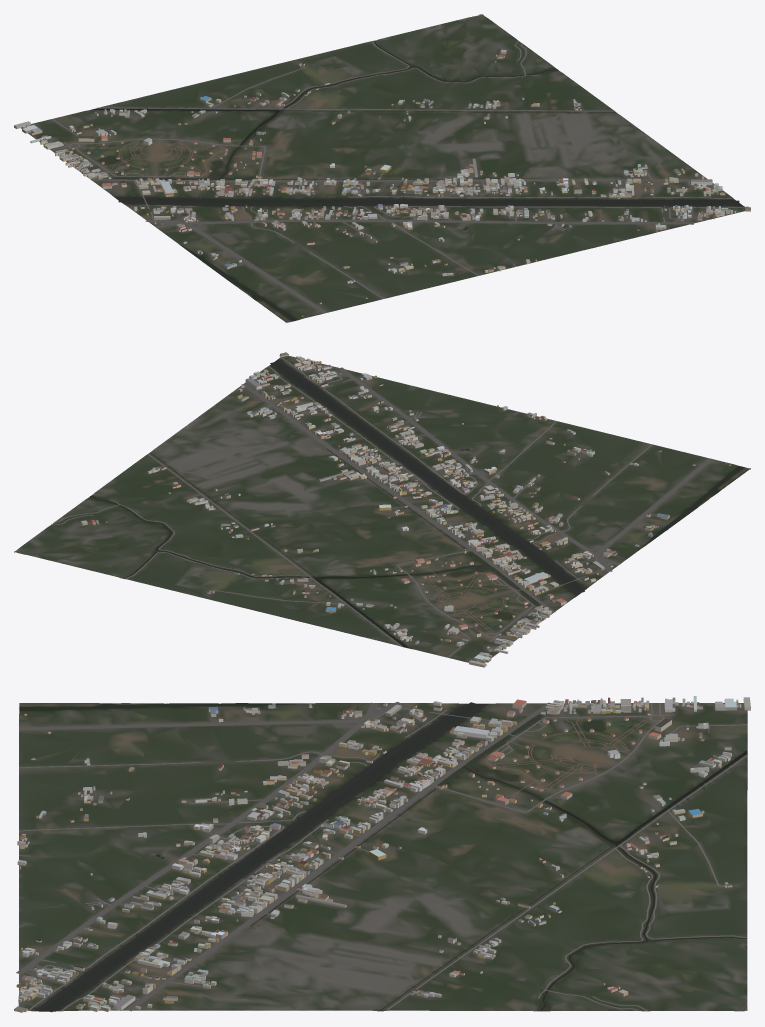
3 renders of one model, top to bottom at view 1: azimuth 30°, elevation 25°; view 2: azimuth 150°, elevation 25°; view 3: azimuth 270°, elevation 25°, orthographic. The views are drawn at different scales.
Parts seen in each view (by area): view 1: ground, buildings, roads, water; view 2: ground, buildings, roads, water; view 3: ground, buildings, water, roads.
Part boxes in pixels (left/top/right/bottom): ground: left=21, top=15, right=745, bottom=322; buildings: left=14, top=49, right=750, bottom=316; roads: left=51, top=14, right=744, bottom=313; water: left=91, top=16, right=742, bottom=321; ground: left=14, top=355, right=750, bottom=662; buildings: left=81, top=352, right=730, bottom=667; roads: left=14, top=357, right=713, bottom=657; water: left=17, top=359, right=744, bottom=647; ground: left=18, top=703, right=747, bottom=1011; buildings: left=14, top=696, right=750, bottom=1012; water: left=19, top=702, right=747, bottom=1012; roads: left=16, top=702, right=747, bottom=1011.
Size of the model in its own units: 1430 by 19.04 by 1417.
